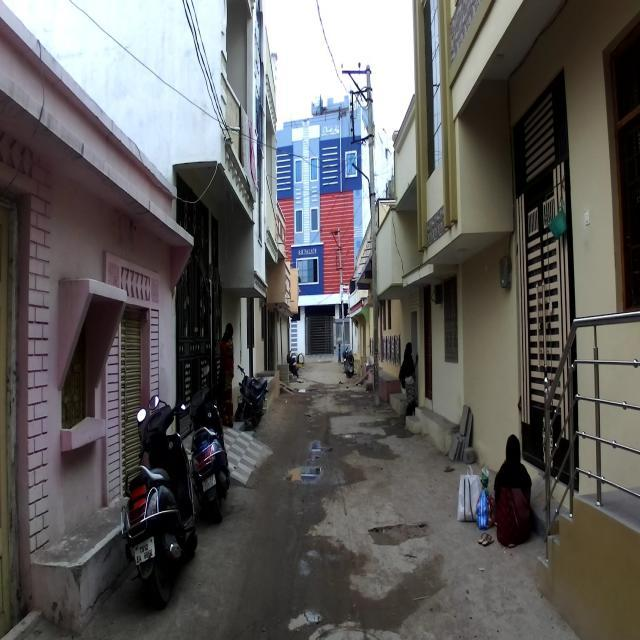Pothole: (356, 494, 432, 582), (290, 432, 355, 515)
